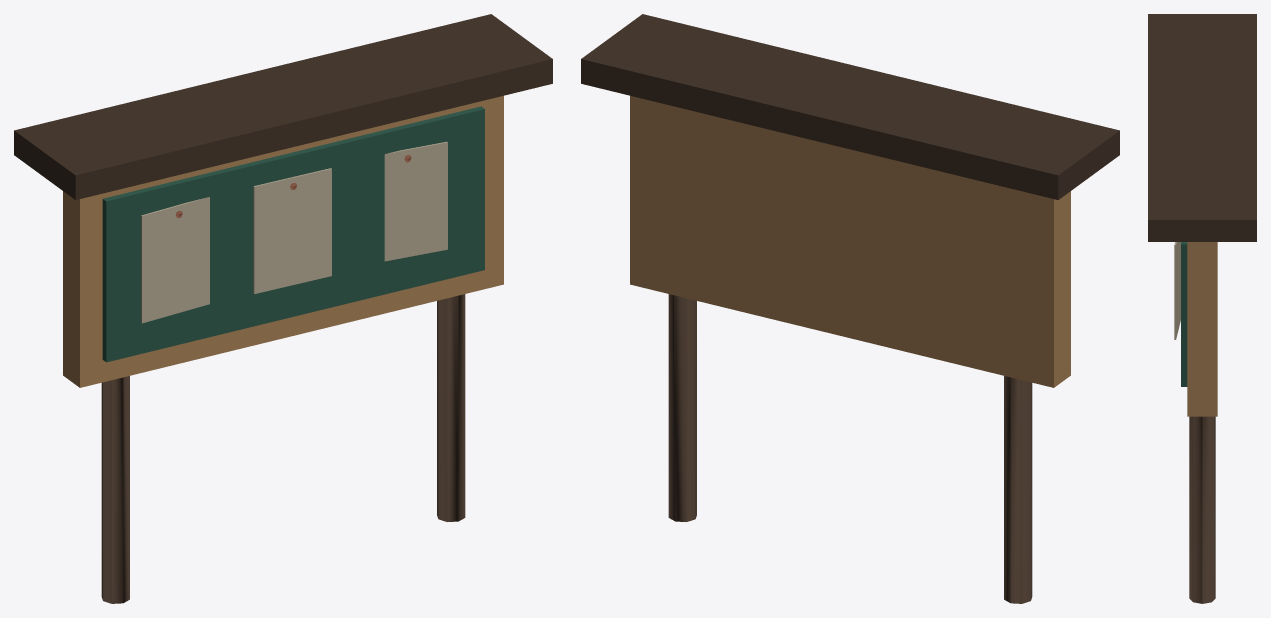
Rendered from Noticeboard.fbx.
The picture shows the model from 3 angles, left to right: view 1: azimuth 30°, elevation 25°; view 2: azimuth 150°, elevation 25°; view 3: azimuth 270°, elevation 25°; orthographic projection. The views are drawn at different scales.
Visible parts, largest first — view 1: Noticeboard crafted mesh; view 2: Noticeboard crafted mesh; view 3: Noticeboard crafted mesh.
Part boxes in pixels (left/top/right/bottom): Noticeboard crafted mesh: left=14, top=14, right=552, bottom=603; Noticeboard crafted mesh: left=581, top=14, right=1119, bottom=603; Noticeboard crafted mesh: left=1148, top=14, right=1256, bottom=603.
Bounding box in the file's own units: 2.42 × 2.24 × 0.54.
